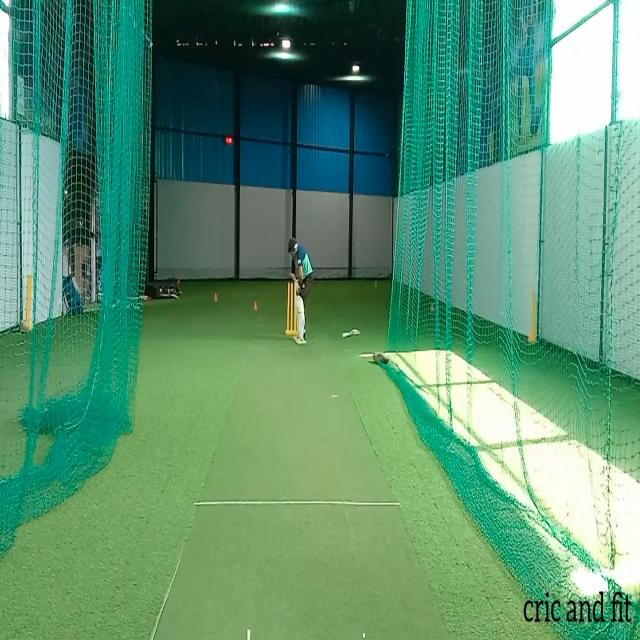batsman: (288, 234, 314, 346)
